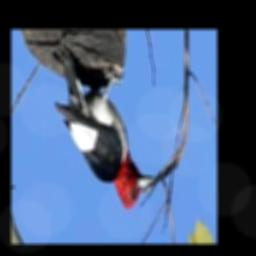Woodpecker: (56, 50, 155, 210)
